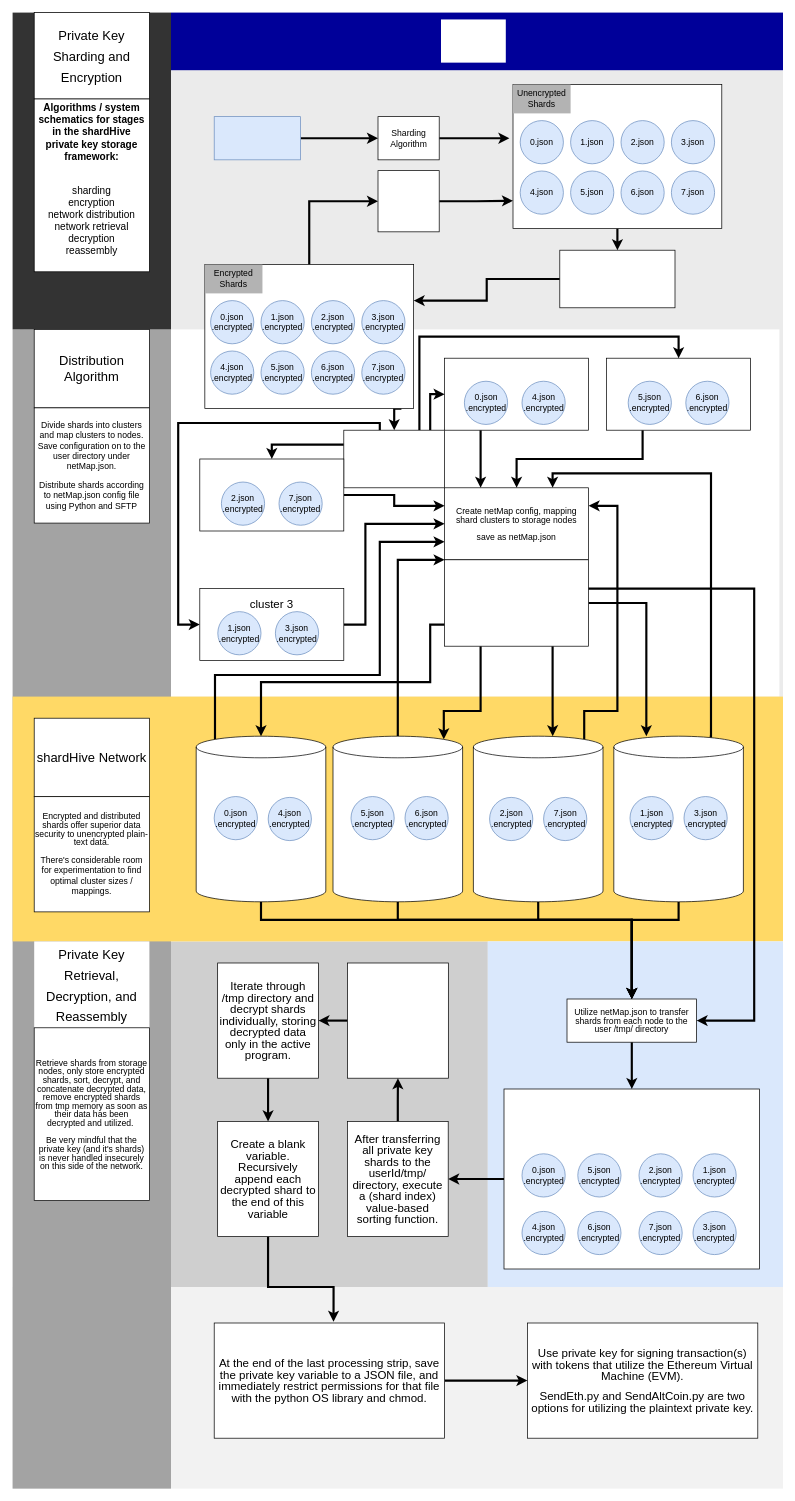
This 795x1501 diagram has some shape labels left out. The shapes that lost their labels are listed below. From the top down, each one's box as (x1, y1, x2, y2) in pixels, then its label:
(441, 19, 505, 62): shardHive v0.1.1
(213, 116, 301, 160): unaltered private key (string)
(377, 170, 439, 232): Remove unencrypted shards after creating each encrypted shard
(559, 249, 675, 308): Symmetric Key Encryption with user associated key
(444, 357, 589, 430): cluster 0
(606, 357, 751, 430): cluster 1
(343, 429, 445, 488): Divide shards into clusters
(199, 458, 344, 531): cluster 2
(444, 559, 589, 646): netMap.json {cluster: 0, node: node2}, {cluster: 1, node: node0}
(195, 735, 326, 902): Node0
(332, 735, 463, 902): Node1
(473, 735, 603, 902): Node2
(613, 735, 743, 902): Node3
(347, 962, 448, 1078): User authenticates identity using shardHive private key.
(503, 1088, 760, 1269): userId/tmp/ Temporary private key storage
